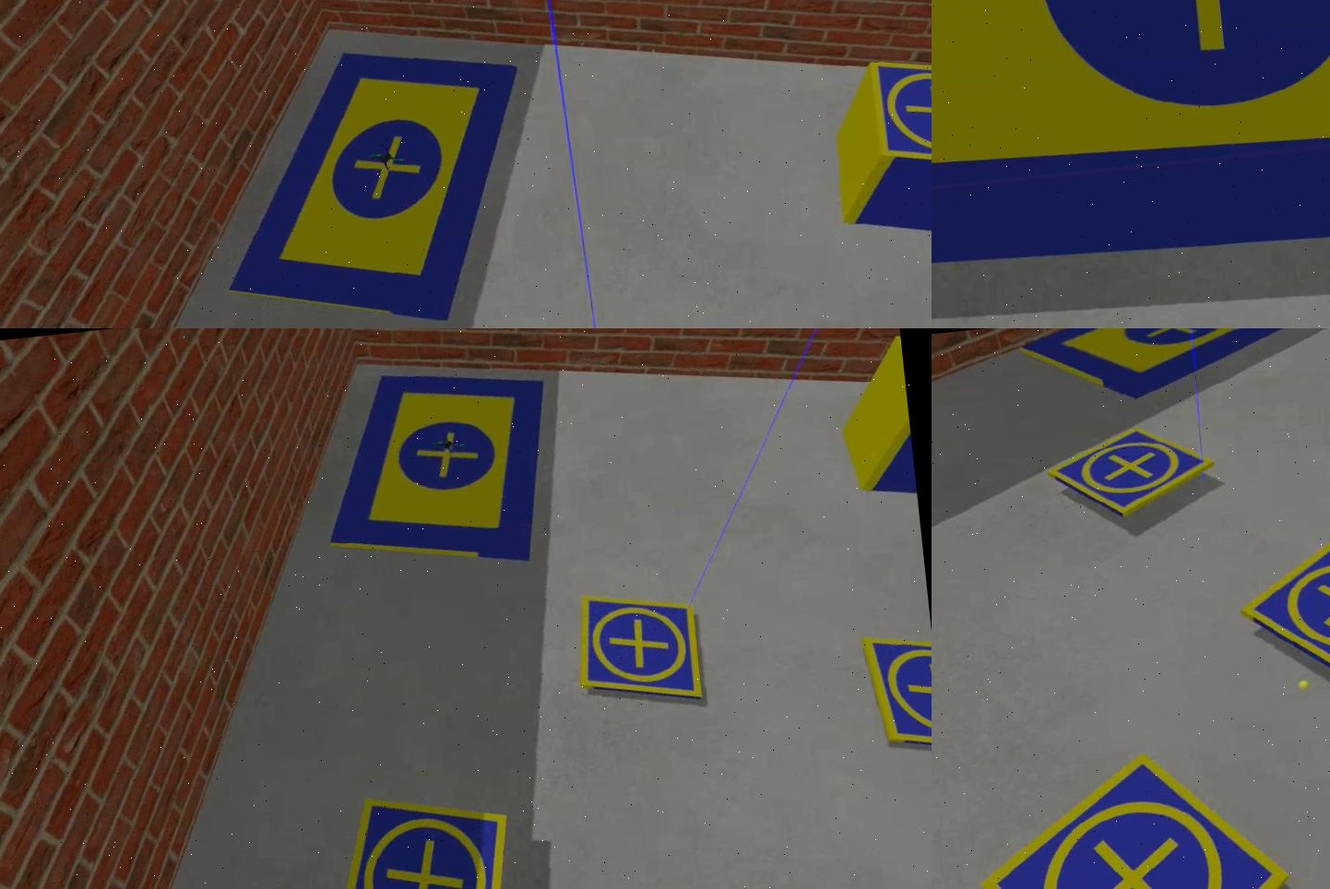large_base: (931, 1, 1328, 308), (203, 34, 545, 328), (309, 360, 563, 583), (1012, 328, 1328, 411)
small_base: (968, 739, 1304, 889), (320, 788, 526, 889), (1041, 417, 1217, 528), (570, 583, 710, 712), (1232, 525, 1328, 705), (867, 48, 931, 187), (859, 634, 931, 751)
